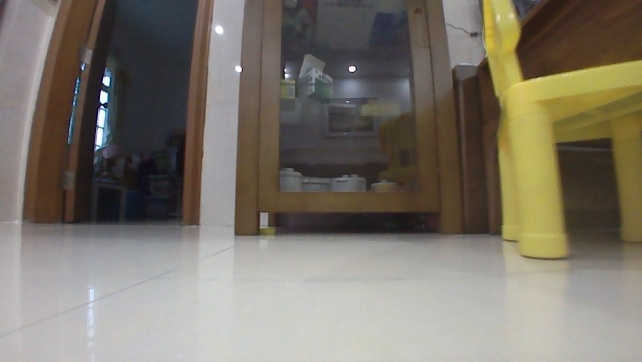door_anno: (54, 0, 120, 225)
